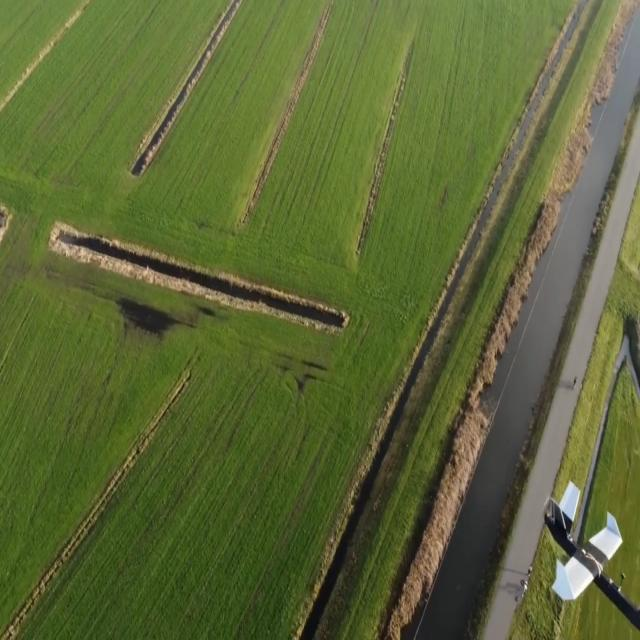iha: (577, 480, 608, 638)
